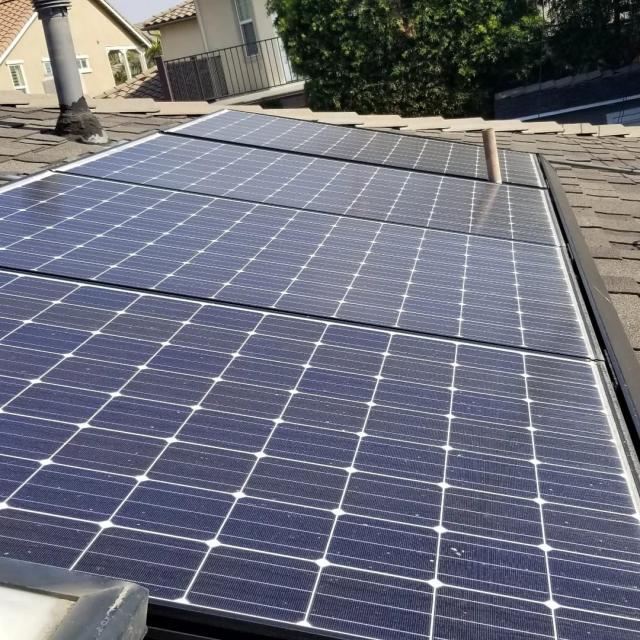dust-solar-panel: (0, 108, 640, 640)
